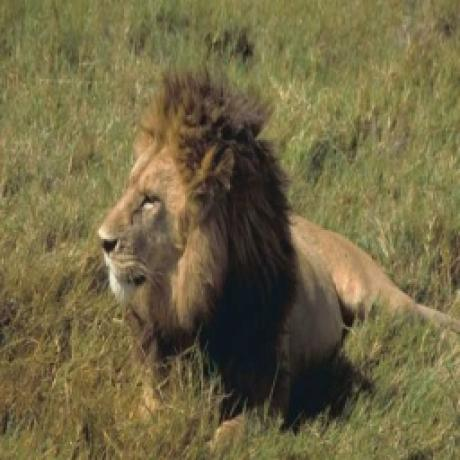Lion: (85, 58, 452, 419)
